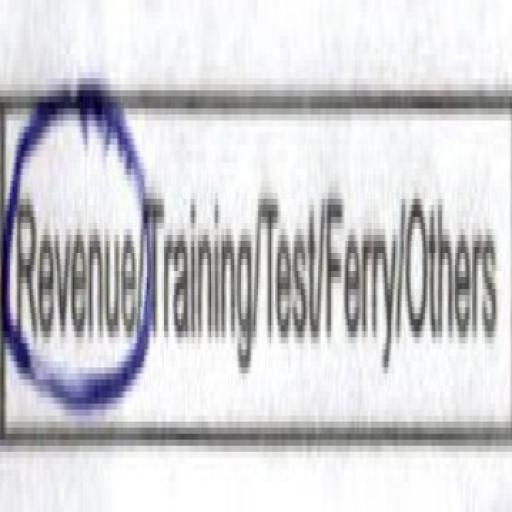check: (0, 0, 144, 500)
